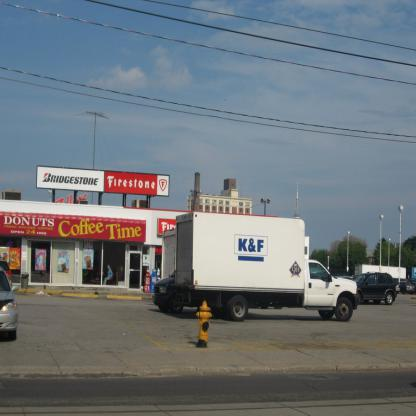Car: (355, 268, 402, 310), (0, 266, 19, 340), (152, 268, 182, 314), (0, 253, 11, 287), (398, 277, 416, 295), (396, 280, 402, 294), (409, 276, 415, 286)
Truck: (152, 198, 365, 332)
